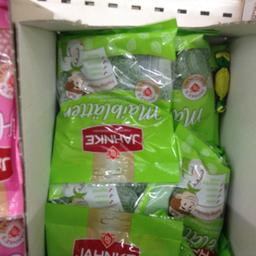candy: (50, 30, 180, 180), (140, 129, 230, 248)
